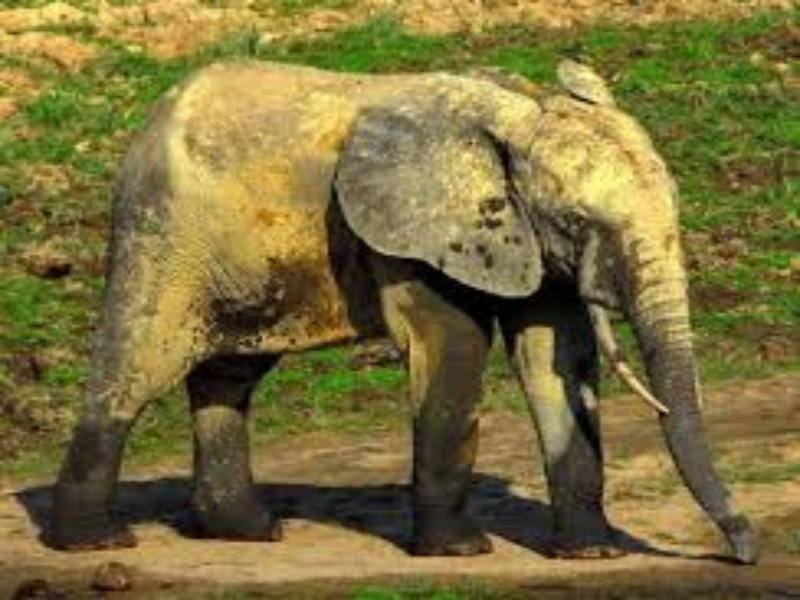elephant: (59, 55, 772, 580)
